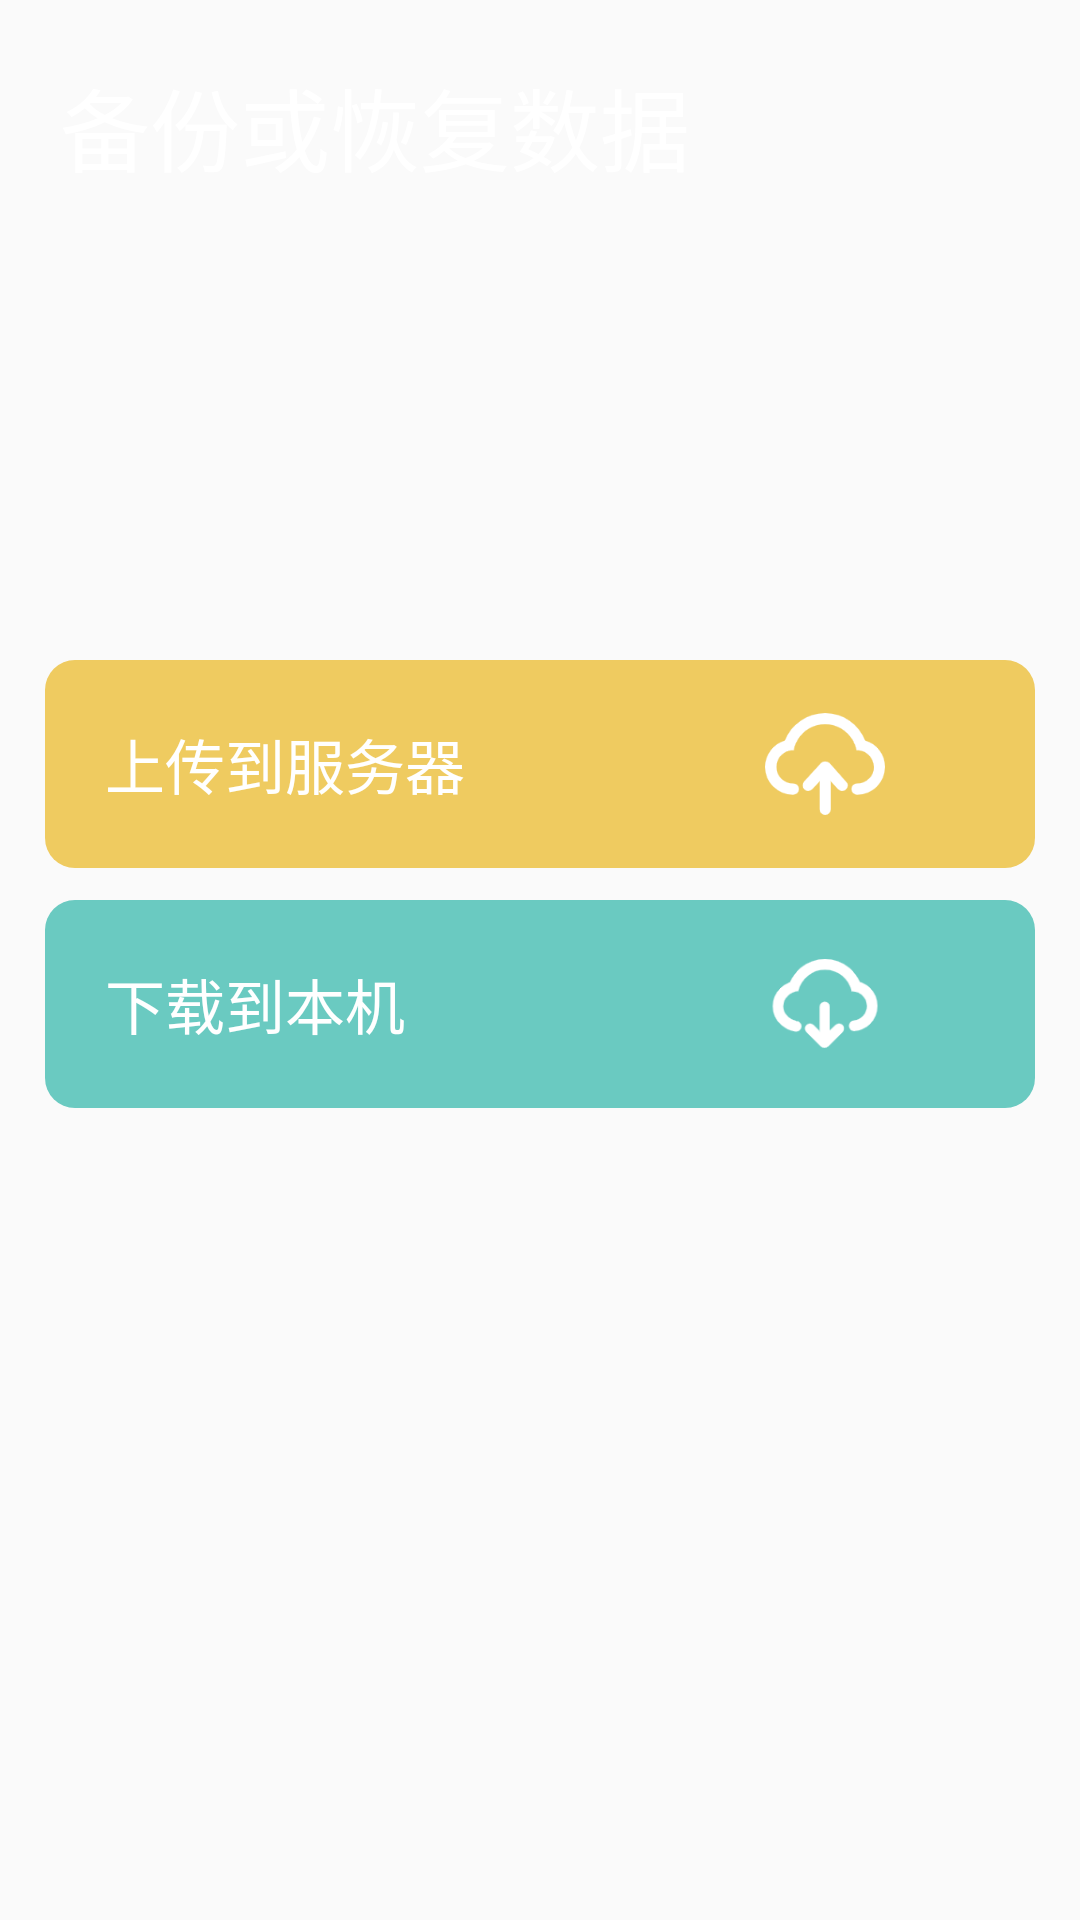

Where to tap for icons on this 1080*1920 app screen, as (x,y):
cloud download: (825,1003)
cloud upload: (825,764)
